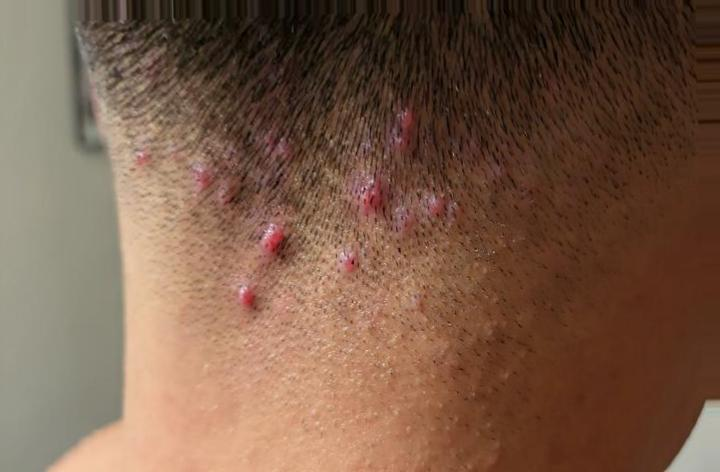Folliculitis: (227, 275, 289, 315), (372, 106, 431, 147), (344, 175, 401, 211), (193, 165, 239, 205), (423, 187, 462, 225), (258, 129, 301, 163), (254, 225, 298, 257), (129, 145, 166, 175), (343, 244, 367, 279)
